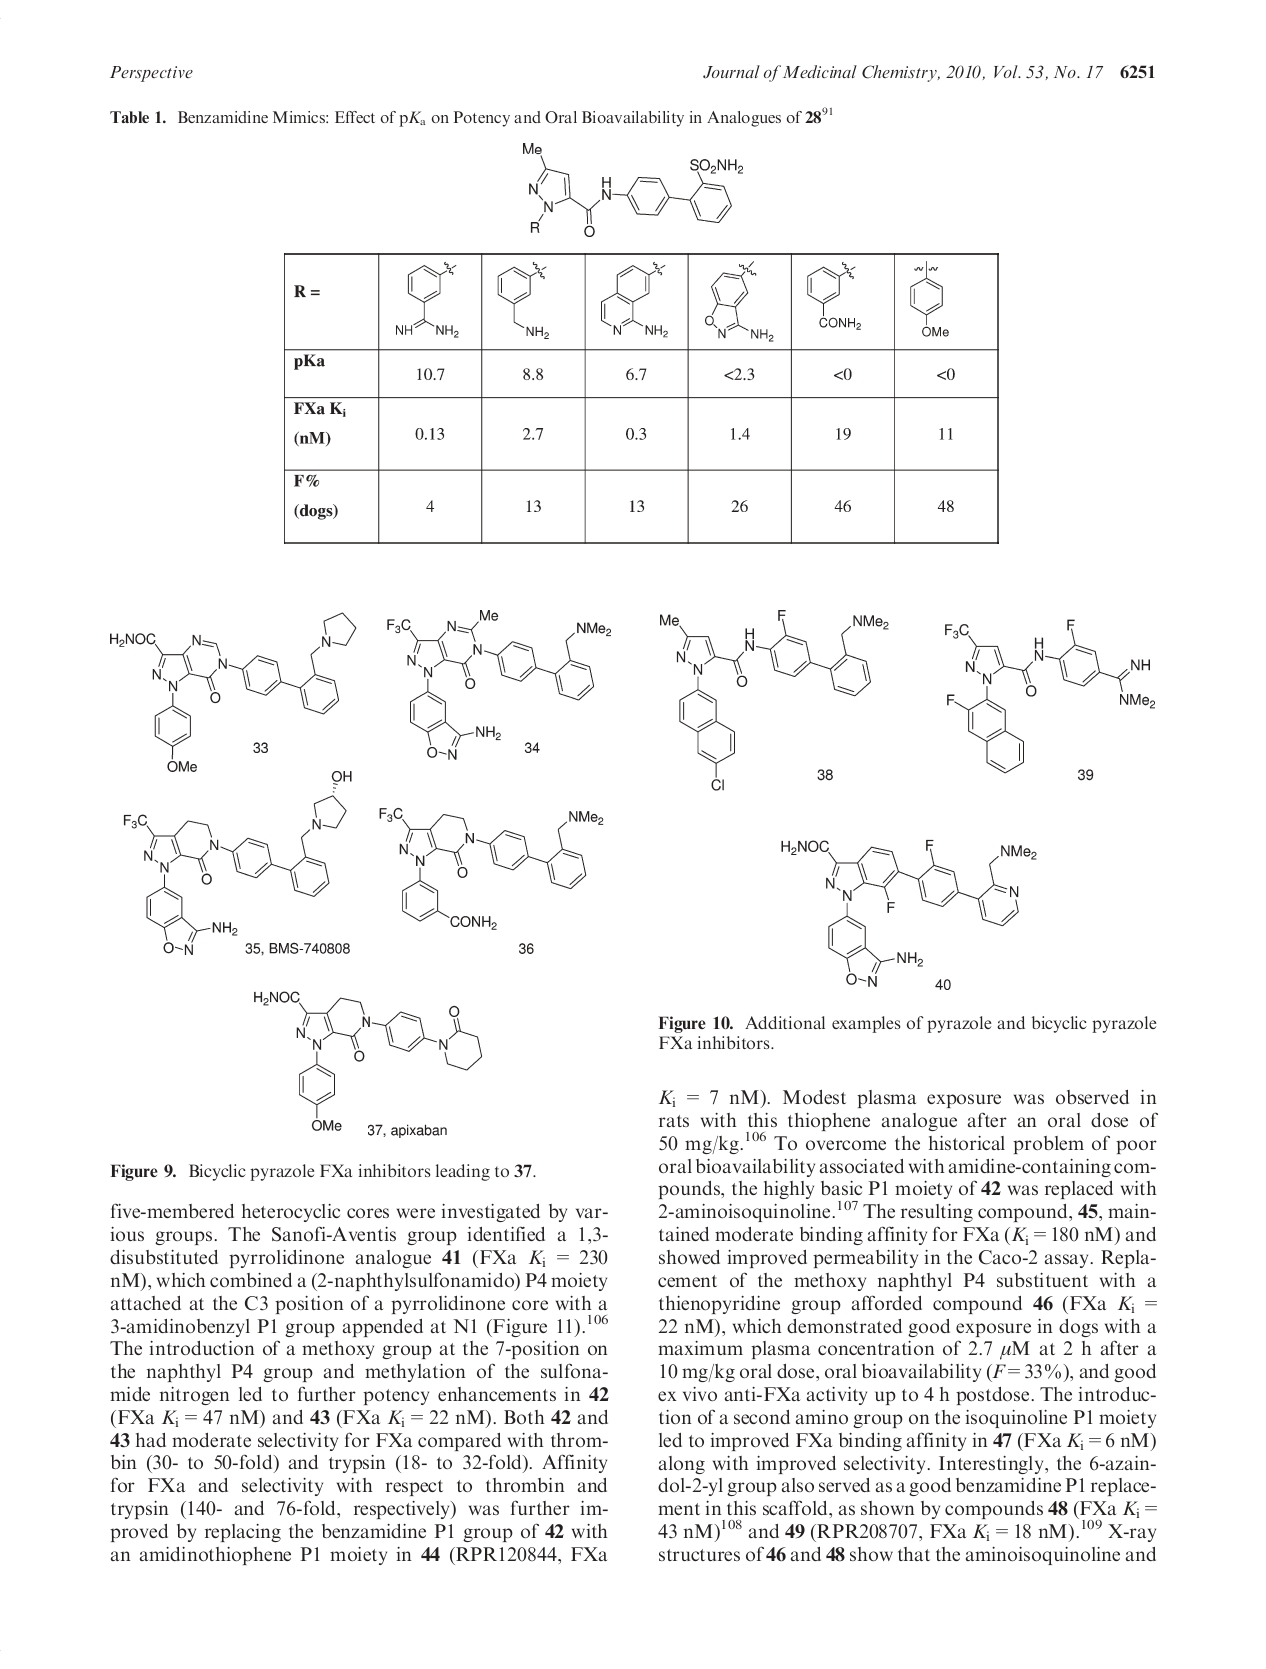exist_molecular: (649, 606, 888, 797), (101, 604, 360, 775), (126, 767, 358, 954), (781, 827, 1039, 989), (386, 602, 626, 759), (243, 981, 489, 1134), (942, 612, 1160, 777), (374, 797, 610, 931), (511, 145, 743, 239), (703, 259, 781, 344), (598, 258, 674, 340), (392, 259, 465, 340), (492, 259, 552, 343), (906, 258, 960, 344), (803, 261, 867, 332)
